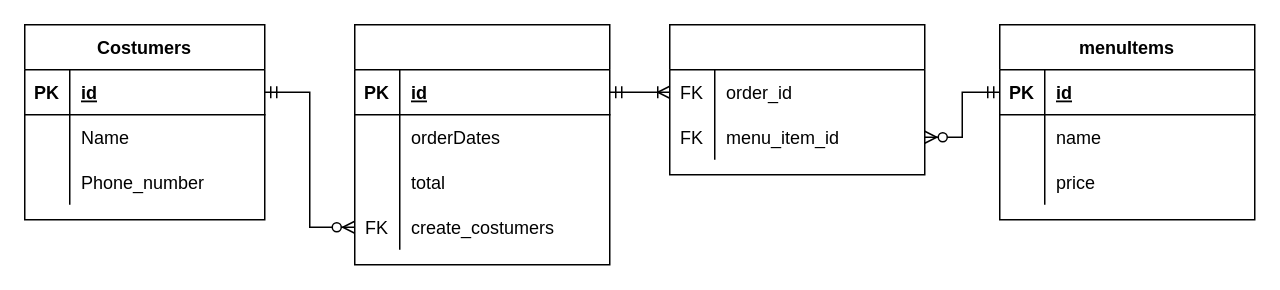
This 1280x290 diagram has some shape labels left out. Here are the shapes that lost their labels. From the top down, the box of each, then its label:
(668, 23, 925, 175): orderDetails
(353, 23, 610, 265): orders
